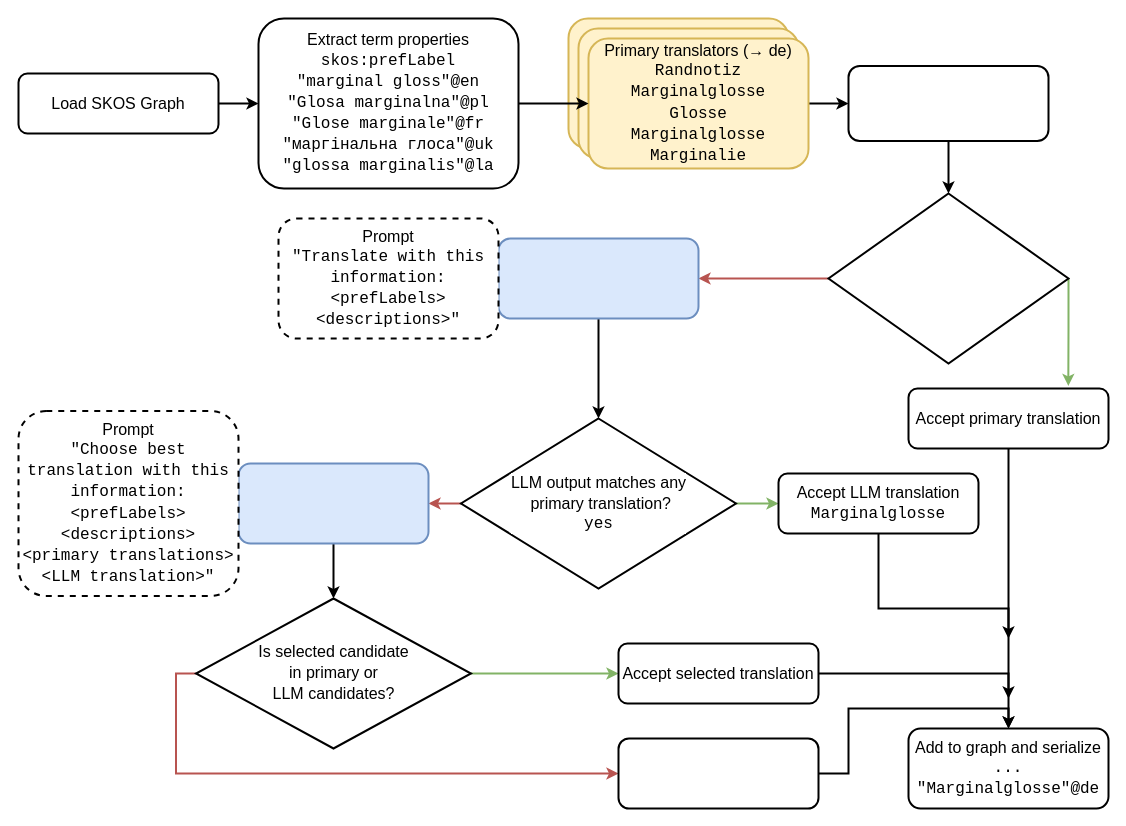
The diagram is 1126 pixels wide and 826 high, and some of its shapes have lost their labels. The box of each missing label's shape, as (x1, y1, x2, y2) in pixels:
Choose most frequent translation of primary + LLM candidates: (617, 737, 819, 809)
Compute frequency confidence 2/5 (0.4): (847, 64, 1049, 142)
Confidence ≥ Threshold? 0.4 ≥ 0.6?: (827, 192, 1069, 364)
LLM candidate selection Prompt: (237, 462, 429, 544)
LLM translator Marginalglosse: (497, 237, 699, 319)
